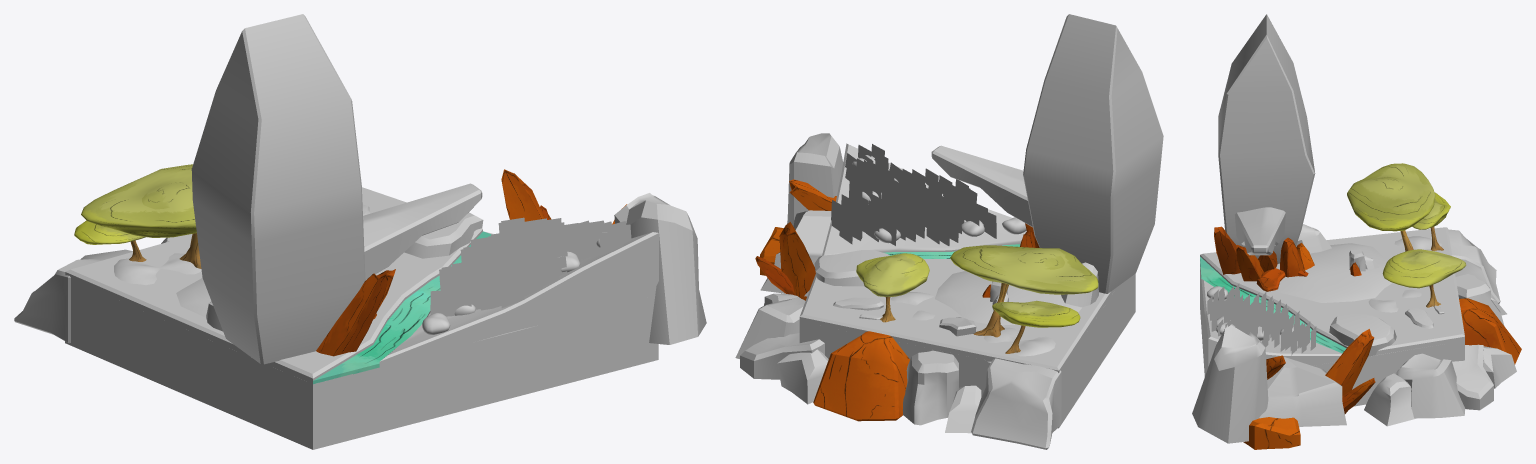
Rendered from biome_savane.fbx.
3 renders of one model, left to right at view 1: azimuth 30°, elevation 25°; view 2: azimuth 150°, elevation 25°; view 3: azimuth 270°, elevation 25°, orthographic. The views are drawn at different scales.
Visible parts, largest first — view 1: rocher, Sol_2, Sol_3, sol_savane1, sol_savane3, Callioux_71, Feuillage_13, pierre, rievere, roche2, Callioux_39, Callioux_35 (+5 smaller); view 2: rocher, sol_savane3, roche1, roche2, Sol_3, Feuillage_13, sol_savane1, Callioux_50, pierre, Sol_2, sol, Callioux_71 (+19 smaller); view 3: rocher, sol_savane3, Callioux_71, Feuillage_13, sol, roche4, Callioux_49, Feuillage_16, Sol_3, roche1, pierre, Callioux_48 (+21 smaller).
Part boxes in pixels (x1,y1,x2,y2): rocher: [191, 14, 365, 364]; Sol_2: [65, 280, 658, 449]; Sol_3: [69, 295, 655, 449]; sol_savane1: [379, 232, 658, 368]; sol_savane3: [65, 187, 482, 382]; Callioux_71: [614, 193, 706, 344]; Feuillage_13: [81, 164, 196, 237]; pierre: [363, 183, 482, 279]; rievere: [313, 231, 491, 384]; roche2: [14, 249, 132, 343]; Callioux_39: [316, 273, 388, 356]; Callioux_35: [404, 212, 483, 258]; rocher: [1023, 14, 1163, 293]; sol_savane3: [799, 259, 1111, 370]; roche1: [813, 331, 909, 421]; roche2: [971, 358, 1061, 449]; Sol_3: [799, 274, 1135, 427]; Feuillage_13: [950, 245, 1098, 294]; sol_savane1: [822, 143, 1026, 255]; Callioux_50: [903, 350, 958, 425]; pierre: [931, 145, 1032, 227]; Sol_2: [799, 274, 1135, 428]; sol: [935, 271, 1081, 325]; Callioux_71: [787, 133, 843, 226]; rocher: [1218, 14, 1315, 263]; sol_savane3: [1200, 227, 1464, 355]; Callioux_71: [1192, 325, 1268, 443]; Feuillage_13: [1347, 163, 1435, 231]; sol: [1251, 243, 1392, 302]; roche4: [1259, 357, 1346, 427]; Callioux_49: [1396, 353, 1465, 418]; Feuillage_16: [1382, 249, 1466, 288]; Sol_3: [1200, 262, 1464, 405]; roche1: [1459, 298, 1521, 364]; pierre: [1235, 207, 1285, 255]; Callioux_48: [1452, 344, 1493, 410].
Size of the model in its own units: 12.23 by 9.1 by 9.49.
